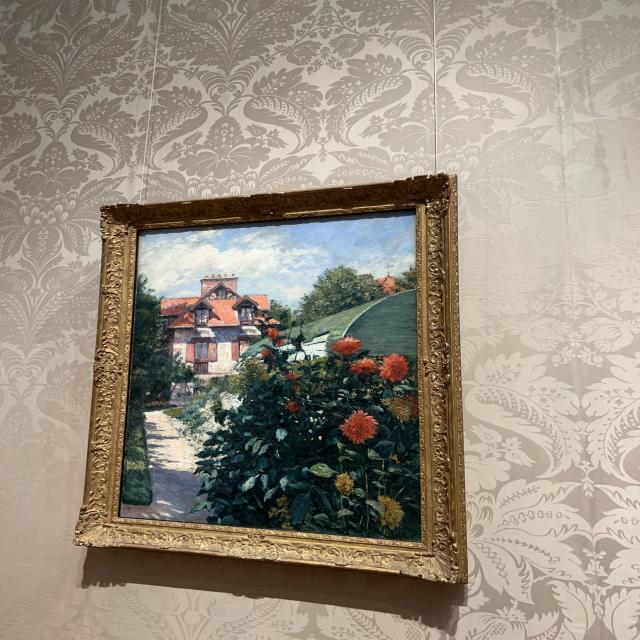summer: (125, 215, 414, 537)
